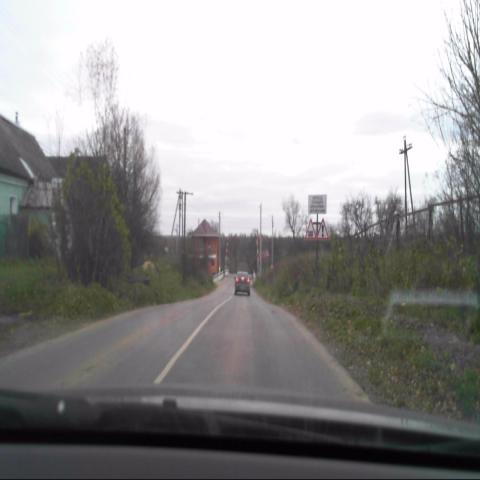1_33: (317, 218, 329, 239)
